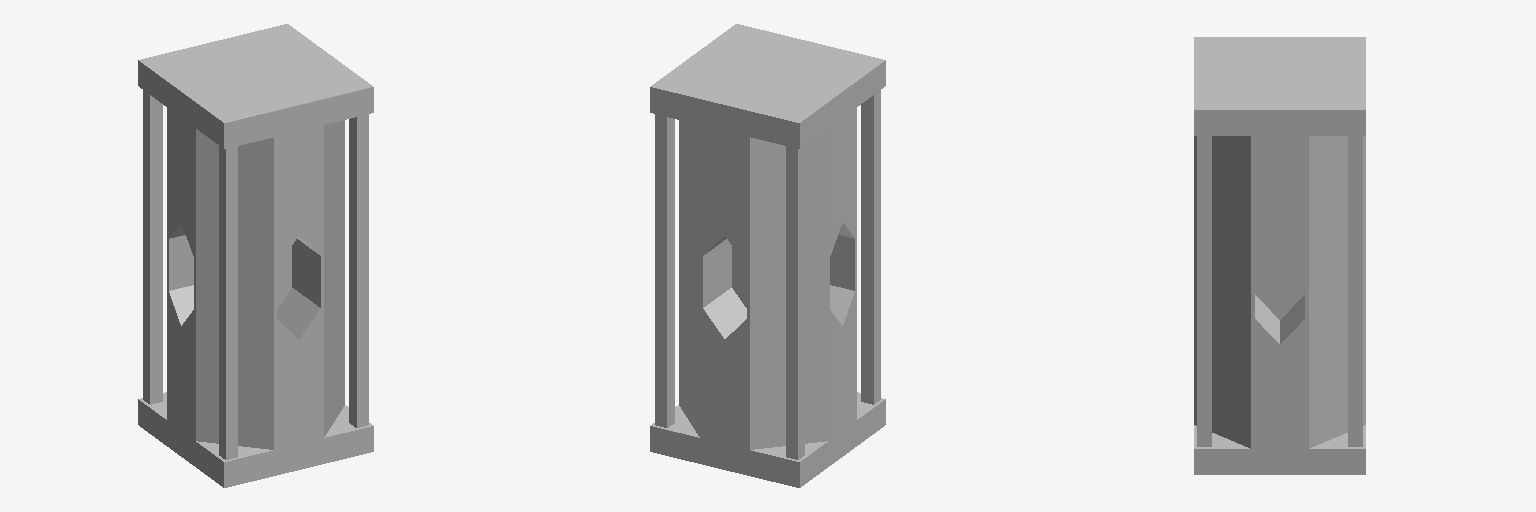
Rendered from solar_tower.obj.
3 views of the same model, side by side, from view 1: azimuth 30°, elevation 25°; view 2: azimuth 150°, elevation 25°; view 3: azimuth 270°, elevation 25° (orthographic).
Parts seen in each view (by area): view 1: base; view 2: base; view 3: base.
Part boxes in pixels (x1,y1,x2,y2): base: (138, 24, 373, 487); base: (650, 24, 885, 487); base: (1194, 37, 1365, 474).
Size of the model in its own units: 3 by 7 by 3.